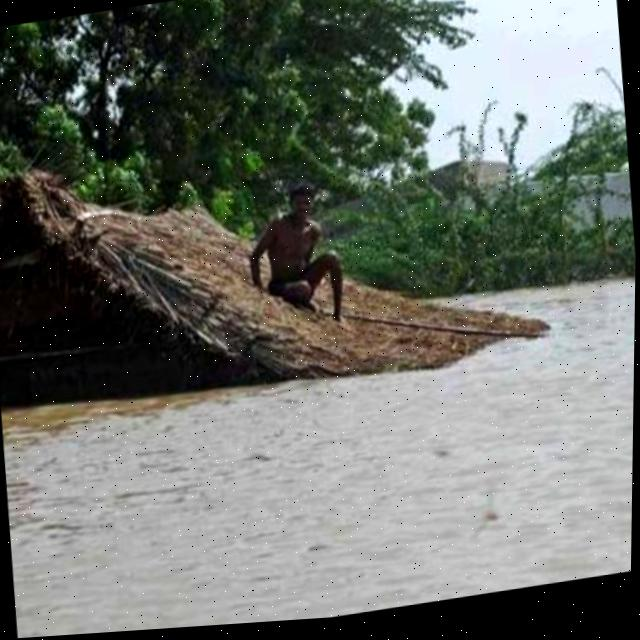civilian: (236, 165, 350, 332)
